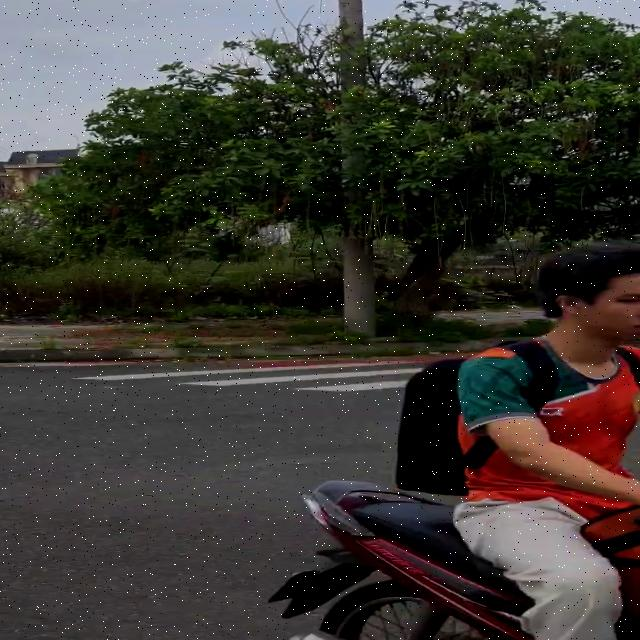no_helmet: (535, 241, 640, 344)
